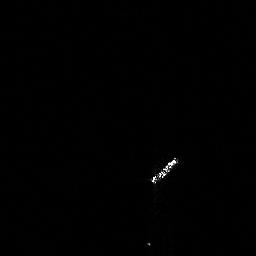ship: (146, 153, 182, 187)
